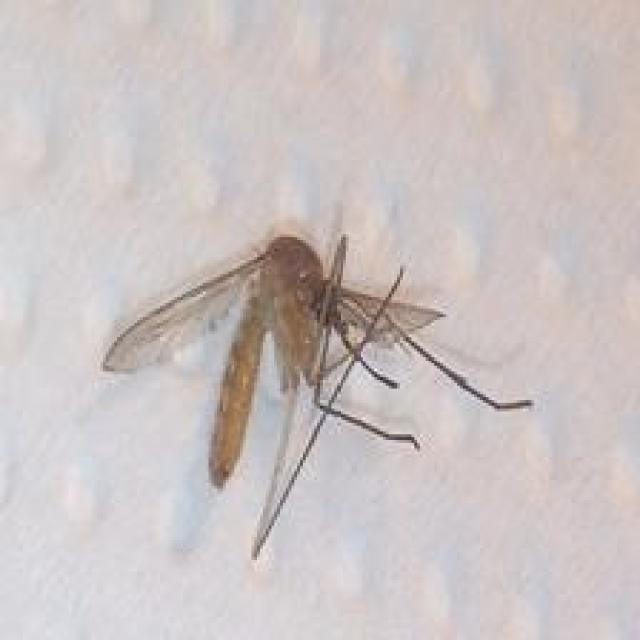Culex: (100, 206, 534, 560)
